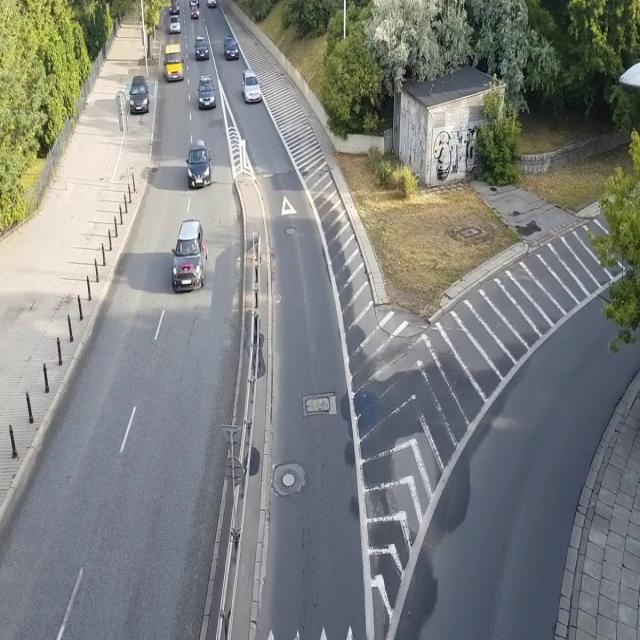car: (168, 215, 209, 292), (186, 138, 211, 190), (128, 74, 150, 113), (241, 68, 263, 105), (196, 74, 217, 109), (224, 32, 239, 62), (194, 35, 210, 61), (168, 16, 182, 35), (169, 0, 181, 14), (191, 4, 199, 19), (188, 0, 200, 9), (205, 0, 215, 9)
van: (162, 43, 185, 82)
